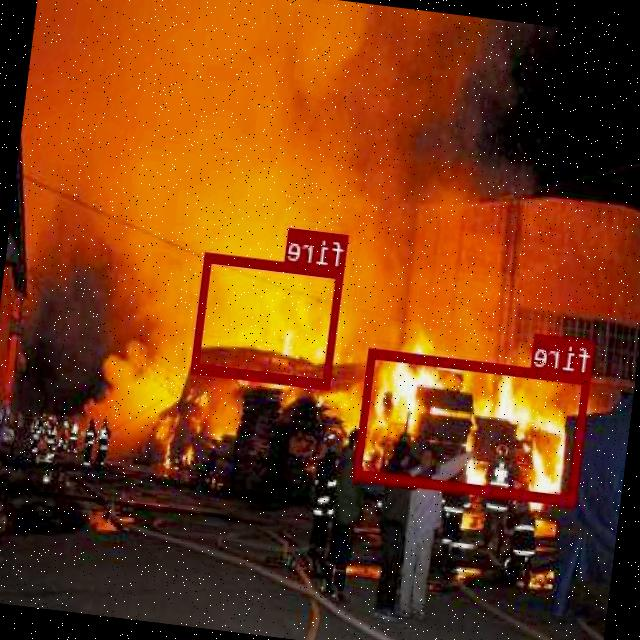fire: (354, 347, 592, 504), (191, 252, 345, 388)
